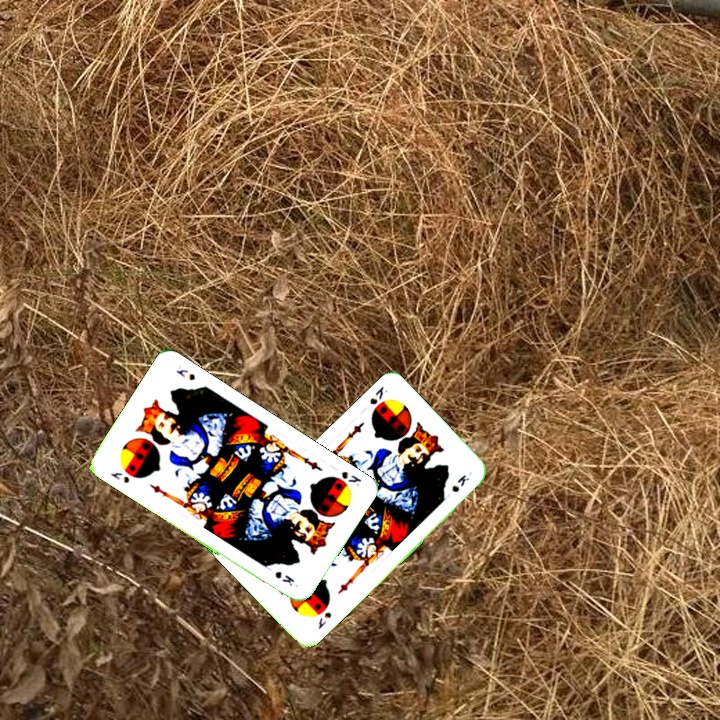SK: (365, 382, 391, 407), (337, 467, 364, 489), (314, 608, 334, 632), (106, 468, 132, 486)
